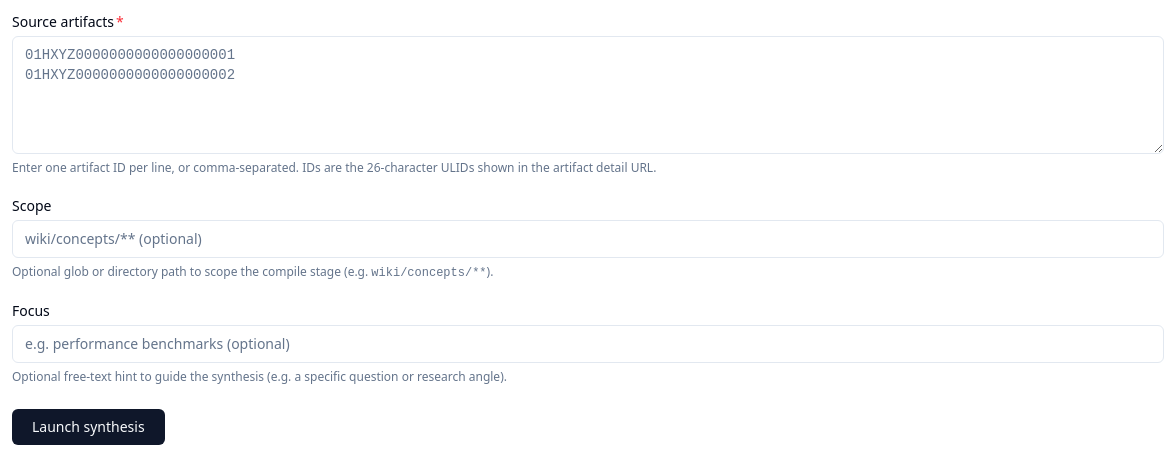
Test: SynthesisBuilder success flow › transitions to running phase showing run_id after 202
This screenshot has width=1176, height=462.
In the text box labelled "Source artifacts*": coordinates (588, 95) [12, 36, 1164, 154], type "01HXYZ0000000000000000001"
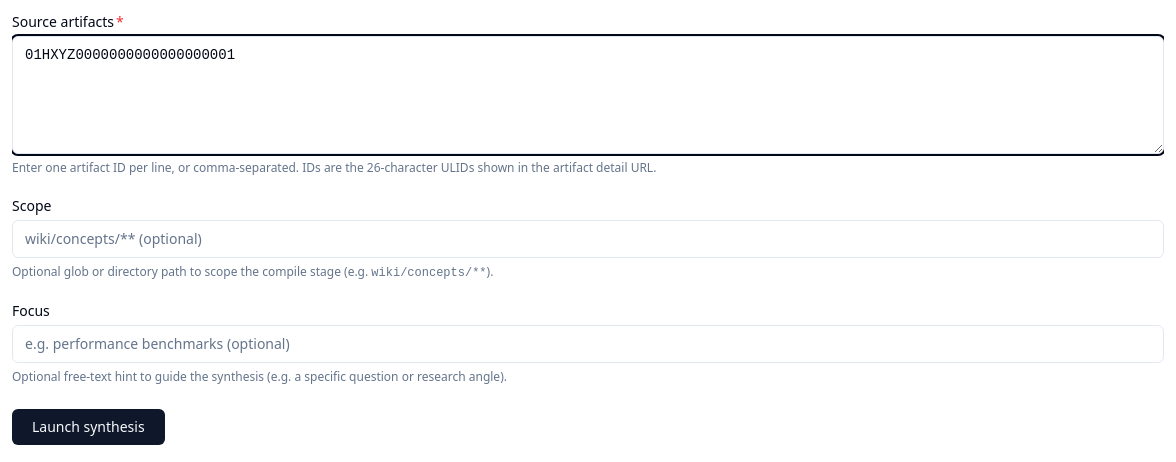
Click the button "Launch synthesis": coordinates (88, 427) [12, 409, 165, 445]
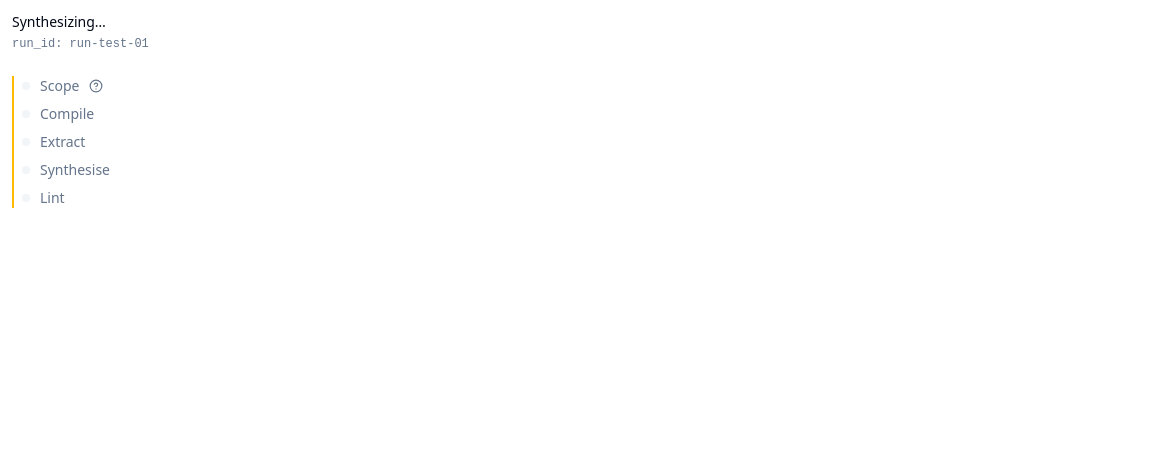
Check: the text "Synthesizing…" is shown, box [12, 12, 106, 31]
Check: the text "run_id: run-test-01" is shown, box [12, 37, 149, 51]
